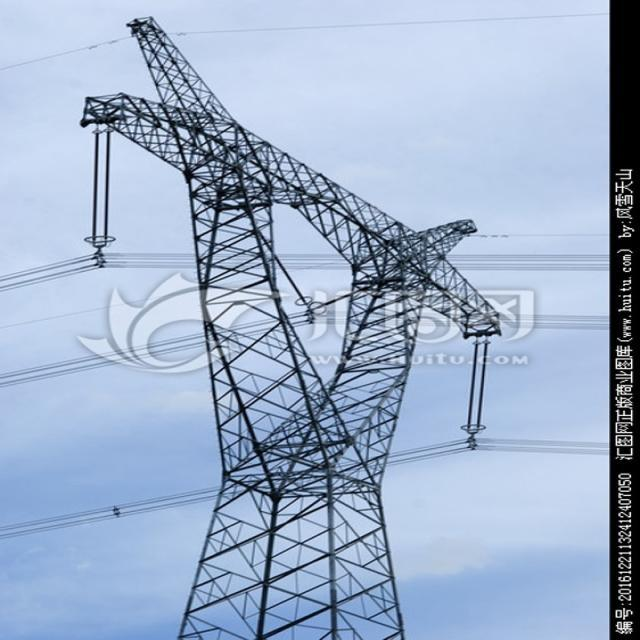non-critical vegetation: (22, 7, 512, 588)
